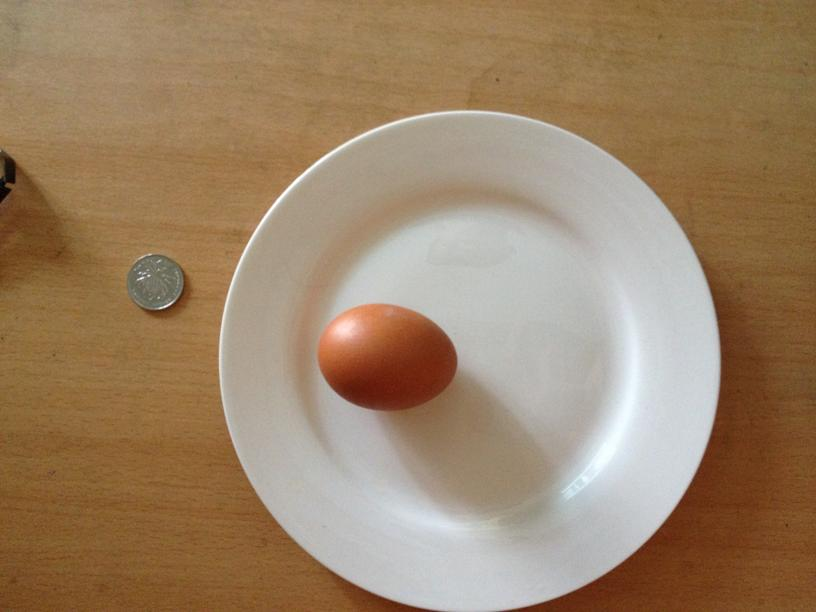coin: (125, 253, 186, 312)
egg: (317, 307, 458, 408)
